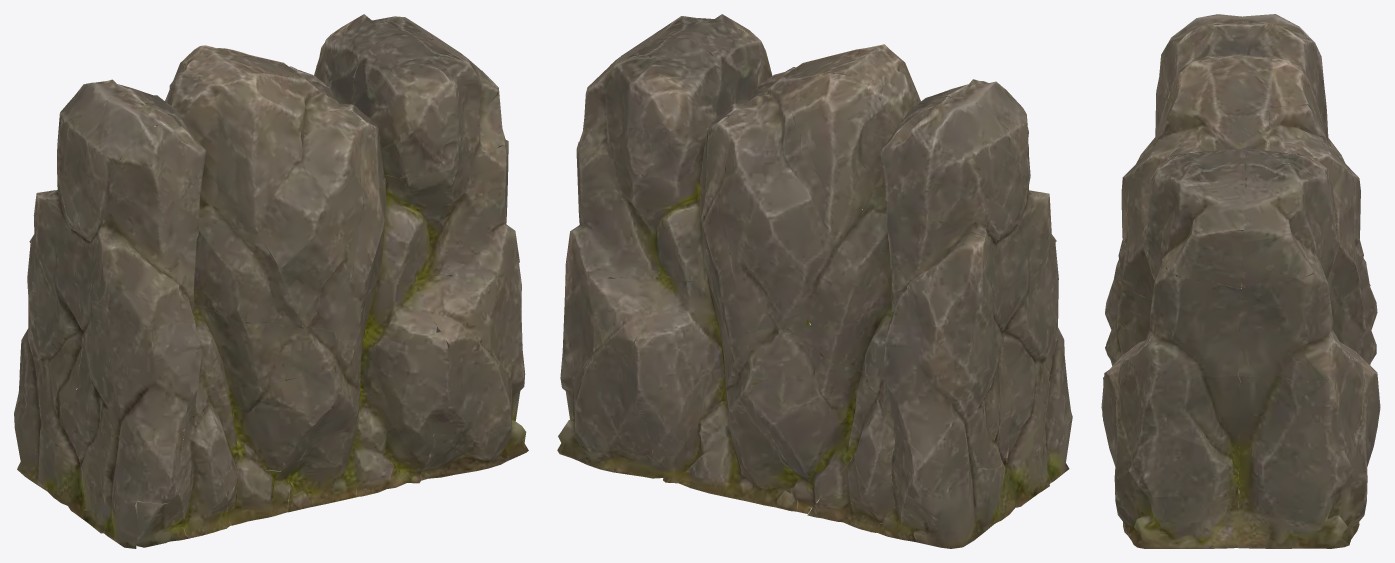
File: cliff-wall.glb
The picture shows the model from 3 angles, left to right: view 1: azimuth 30°, elevation 25°; view 2: azimuth 150°, elevation 25°; view 3: azimuth 270°, elevation 25°; orthographic projection. The views are drawn at different scales.
Parts seen in each view (by area): view 1: Mesh_0; view 2: Mesh_0; view 3: Mesh_0.
Boxes of the visible parts, x1=… form: Mesh_0: x1=14, y1=14, x2=528, y2=548; Mesh_0: x1=557, y1=14, x2=1072, y2=548; Mesh_0: x1=1101, y1=14, x2=1380, y2=548.
Bounding box in the file's own units: 10.01 × 9.69 × 6.43.
Materials: 1 (1 with a texture image).
